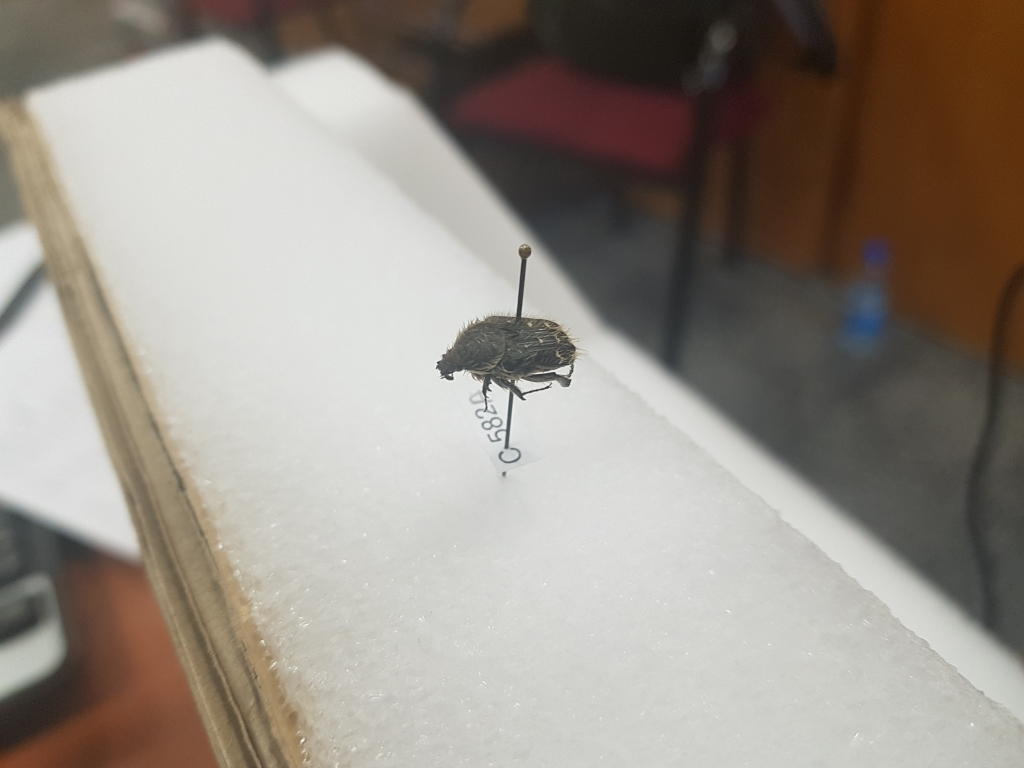Tropinota_hirta: (430, 312, 596, 404)
